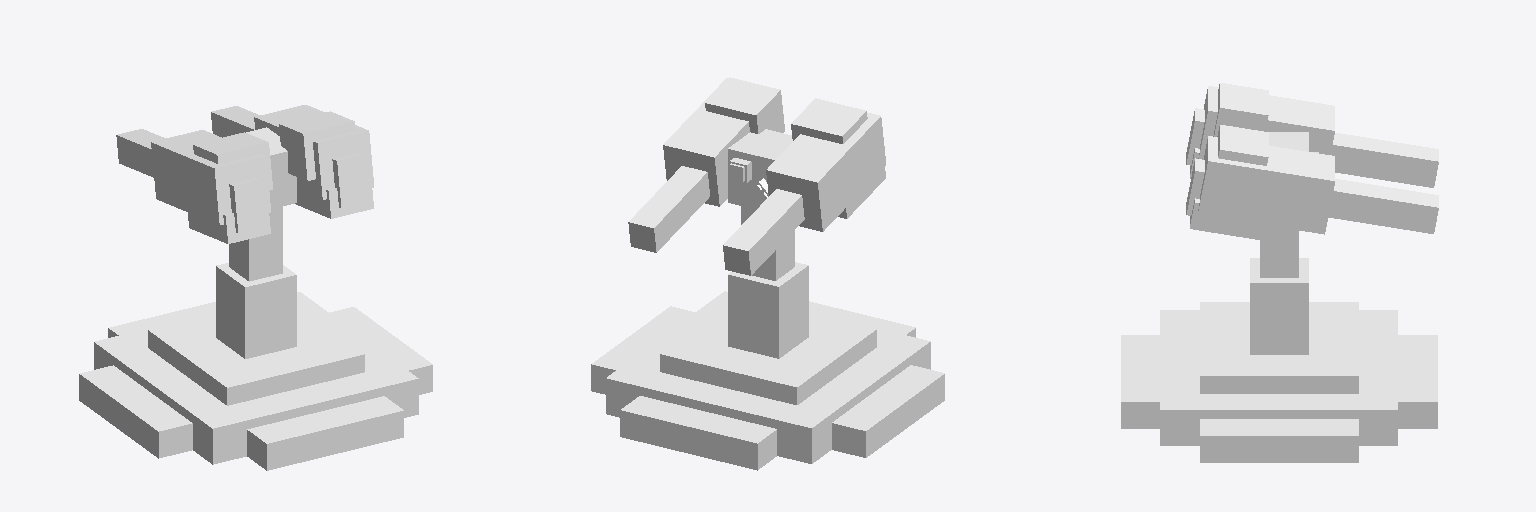
File: vw2kme60czg6.obj
The picture shows the model from 3 angles: view 1: azimuth 30°, elevation 25°; view 2: azimuth 150°, elevation 25°; view 3: azimuth 270°, elevation 25°; orthographic projection.
Visible parts, largest first — view 1: meshes_1-2, meshes_0-2, meshes_23-4, meshes_5-4, meshes_18-1, meshes_1-4, meshes_2-2, meshes_5-2, meshes_0-4, meshes_2-1, meshes_23-1, meshes_3-2 (+27 smaller); view 2: meshes_1-2, meshes_0-2, meshes_4-5, meshes_23-5, meshes_18-1, meshes_1-5, meshes_2-2, meshes_4-2, meshes_18-5, meshes_0-5, meshes_14-5, meshes_23-1 (+22 smaller); view 3: meshes_1-2, meshes_0-2, meshes_14-0, meshes_3-0, meshes_1-0, meshes_23-0, meshes_17-0, meshes_0-0, meshes_22-0, meshes_3-2, meshes_4-2, meshes_5-2 (+15 smaller).
Boxes of the visible parts, x1,y1,x2,y2 form: meshes_1-2: [95, 292, 418, 428]; meshes_0-2: [149, 305, 363, 387]; meshes_23-4: [245, 275, 296, 358]; meshes_5-4: [267, 411, 403, 470]; meshes_18-1: [151, 142, 219, 224]; meshes_1-4: [213, 379, 418, 464]; meshes_2-2: [80, 365, 191, 431]; meshes_5-2: [247, 396, 403, 443]; meshes_0-4: [227, 354, 364, 405]; meshes_2-1: [79, 374, 158, 458]; meshes_23-1: [216, 266, 244, 358]; meshes_3-2: [330, 307, 432, 370]; meshes_1-2: [607, 291, 930, 427]; meshes_0-2: [661, 305, 875, 386]; meshes_4-5: [620, 410, 757, 470]; meshes_23-5: [728, 275, 778, 358]; meshes_18-1: [818, 117, 885, 231]; meshes_1-5: [606, 378, 811, 463]; meshes_2-2: [832, 365, 944, 430]; meshes_4-2: [621, 396, 776, 443]; meshes_18-5: [767, 112, 880, 182]; meshes_0-5: [660, 354, 796, 404]; meshes_14-5: [663, 78, 748, 157]; meshes_23-1: [779, 266, 808, 358]; meshes_1-2: [1160, 310, 1397, 409]; meshes_0-2: [1200, 308, 1358, 375]; meshes_14-0: [1198, 161, 1334, 234]; meshes_3-0: [1200, 436, 1358, 462]; meshes_1-0: [1160, 410, 1397, 445]; meshes_23-0: [1250, 283, 1308, 354]; meshes_17-0: [1328, 191, 1438, 233]; meshes_0-0: [1200, 376, 1358, 393]; meshes_22-0: [1331, 145, 1438, 187]; meshes_3-2: [1200, 419, 1358, 435]; meshes_4-2: [1398, 335, 1437, 401]; meshes_5-2: [1121, 335, 1159, 401].
Bounding box in the file's own units: 32 × 31.14 × 32.1.